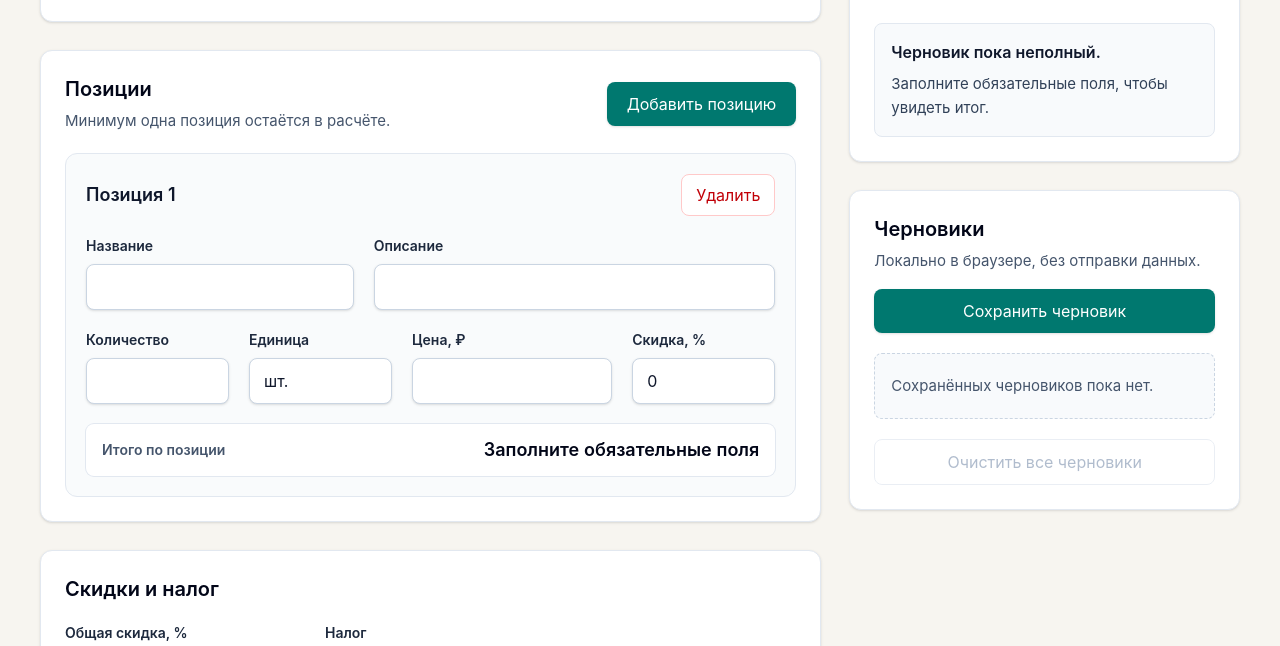
Test: QuoteFlow UI › clears a touched-field error as soon as the value is valid
The image size is (1280, 646).
(page scrolled)
Click the field labelled "Название" at [220, 287], box [86,264,354,310]
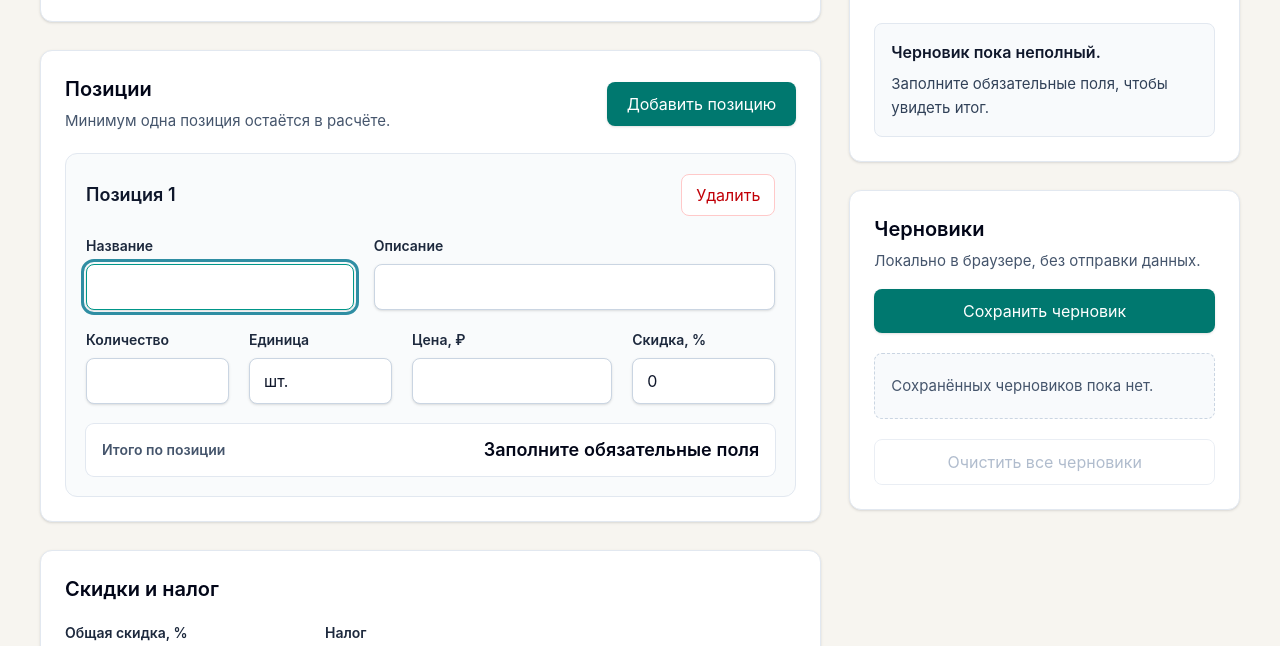
Press Tab
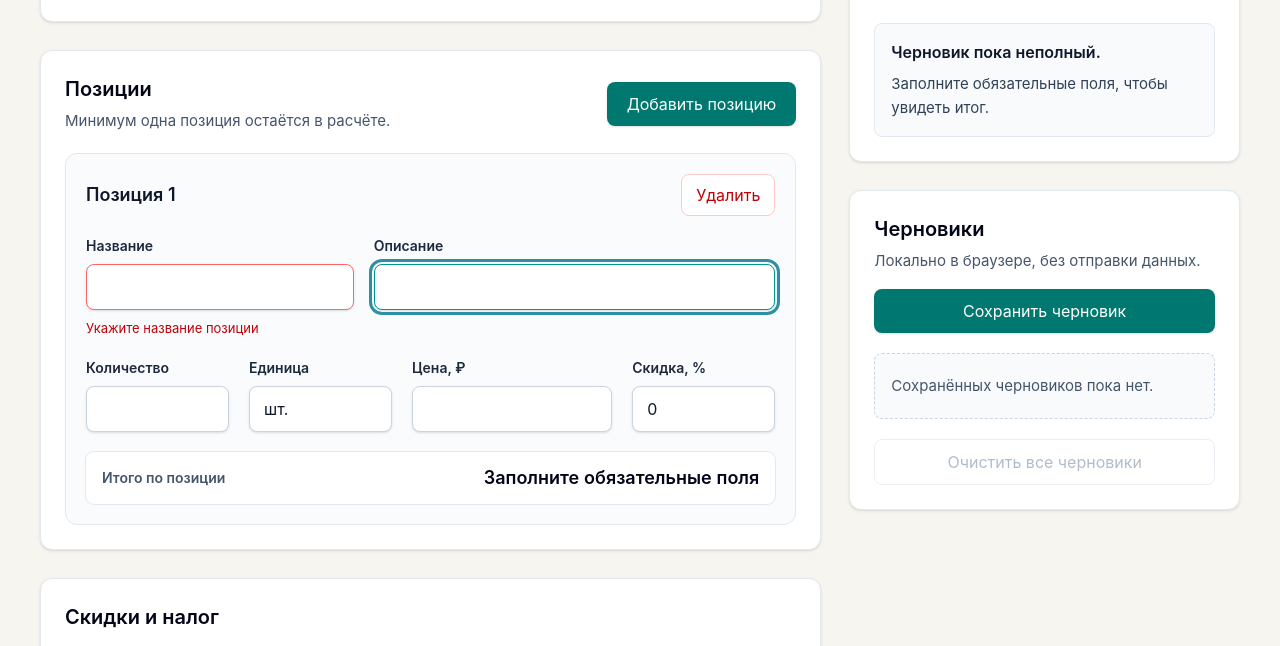
Expected: the text "Укажите название позиции" is shown, [86,320,259,336]
Type "Прототип" into the field labelled "Название" at [220, 287], box [86,264,354,310]
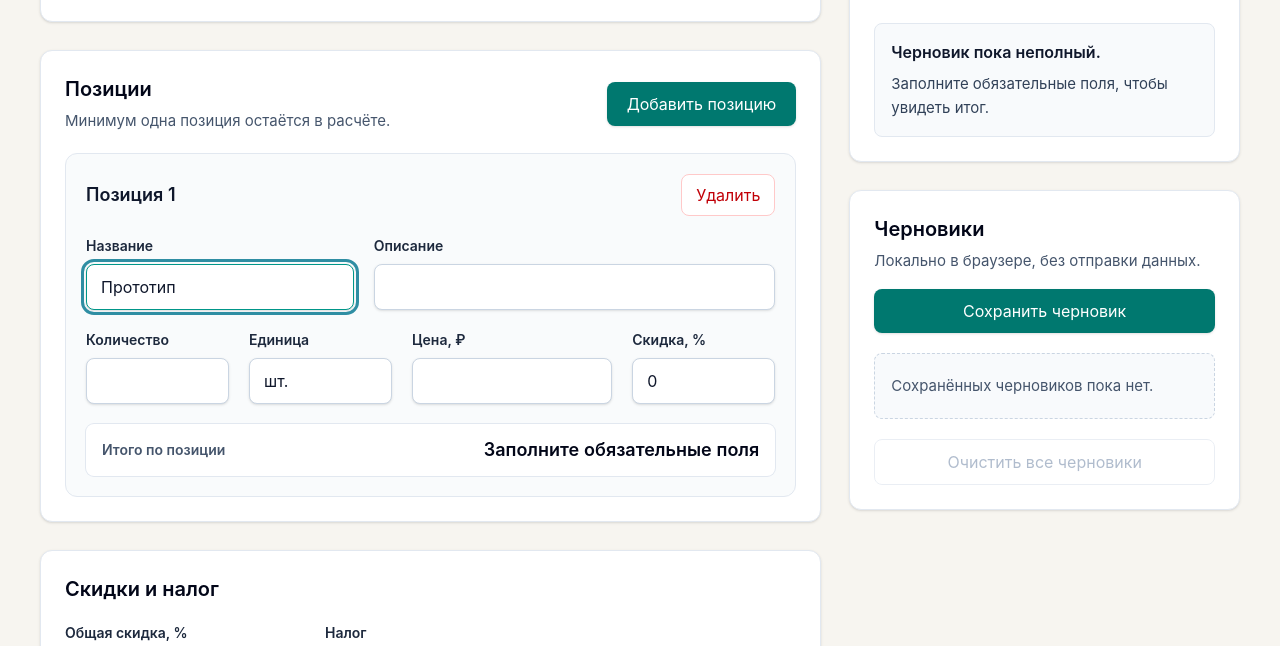
Expected: the text "Укажите название позиции" is gone
